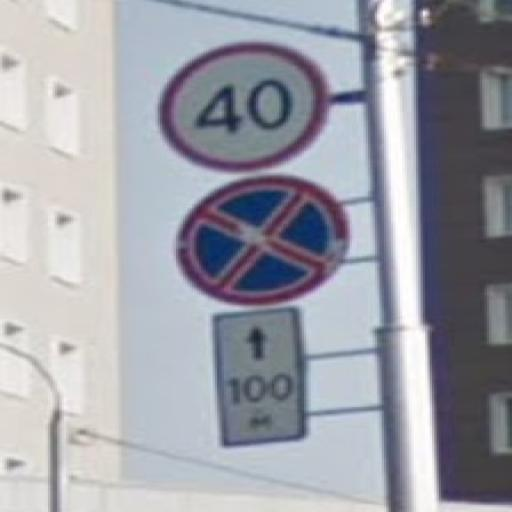traffic_sign: (177, 174, 351, 309), (161, 42, 335, 172)
